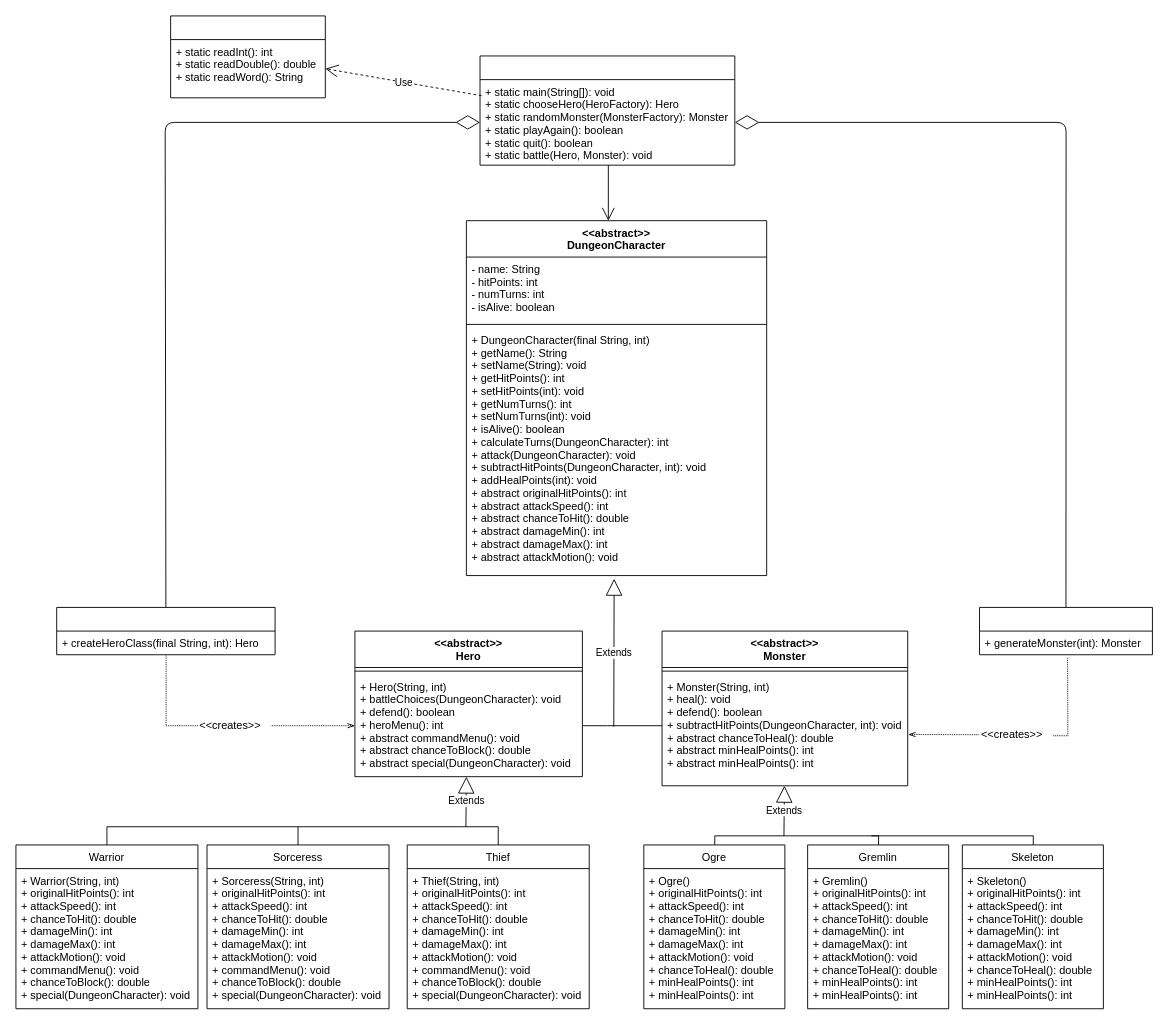
The diagram is 1168 pixels wide and 1027 high, and some of its shapes have lost their labels. The shapes that lost their labels are listed below. From the top down, each one's box as (x1, y1, x2, y2) in pixels, then its label:
(170, 15, 325, 98): Utils
(479, 55, 735, 165): Dungeon
(56, 607, 275, 655): HeroFactory
(979, 607, 1152, 655): MonsterFactory
